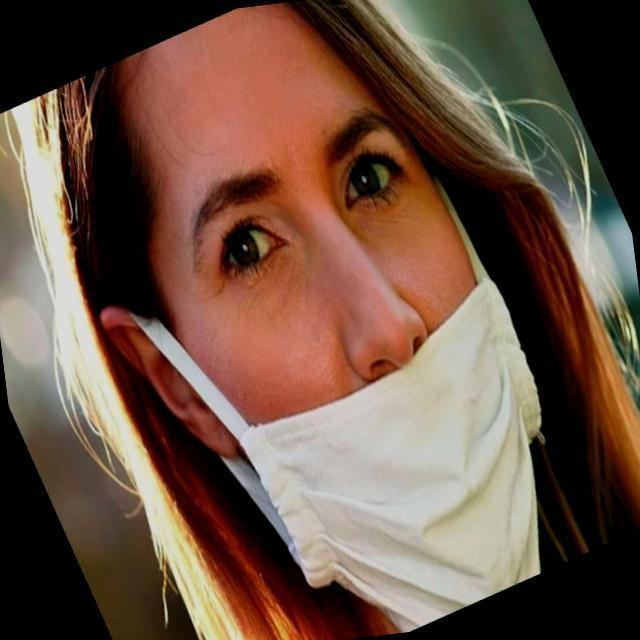hairnet: (105, 210, 554, 592)
